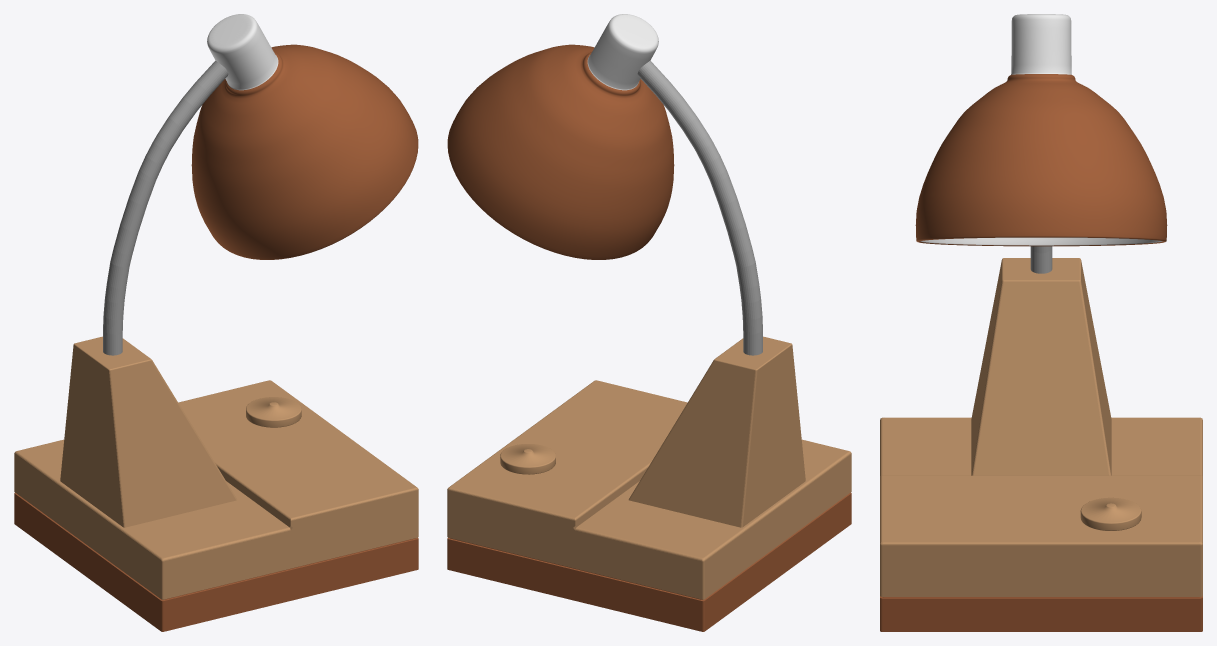
The model's file is Lamp.fbx.
3 renders of one model, left to right at view 1: azimuth 30°, elevation 25°; view 2: azimuth 150°, elevation 25°; view 3: azimuth 270°, elevation 25°, orthographic. The views are drawn at different scales.
Parts seen in each view (by area): view 1: Cube.002; view 2: Cube.002; view 3: Cube.002.
Part boxes in pixels (x1,y1,x2,y2): Cube.002: [14, 14, 418, 631]; Cube.002: [447, 14, 851, 631]; Cube.002: [880, 14, 1202, 631].
Size of the model in its own units: 244 by 388 by 200.
